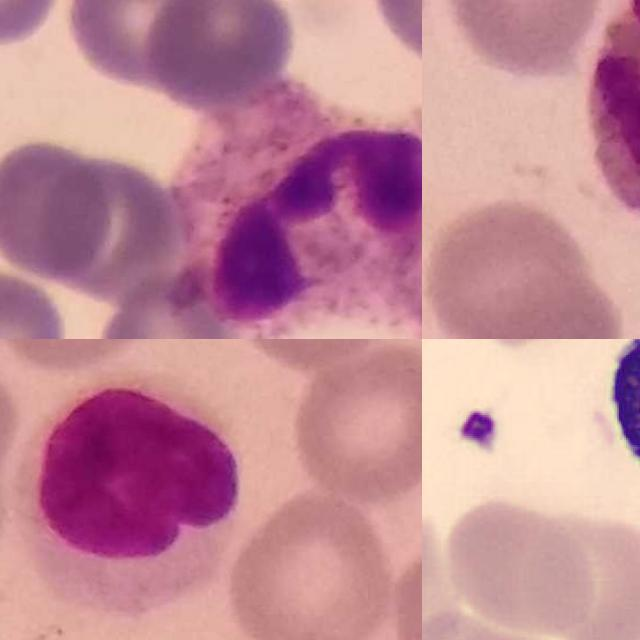Lymphocyte: (15, 370, 239, 621), (581, 339, 640, 501)
Neutrophil: (171, 77, 422, 339)
Platelets: (454, 406, 502, 456)
RBC: (439, 493, 601, 636), (530, 508, 640, 640), (422, 603, 597, 640), (422, 506, 469, 640)
